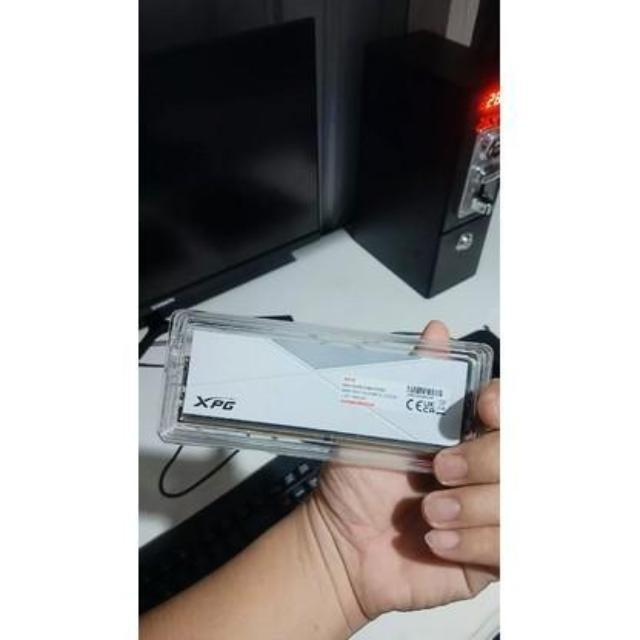RAM: (176, 328, 482, 456)
